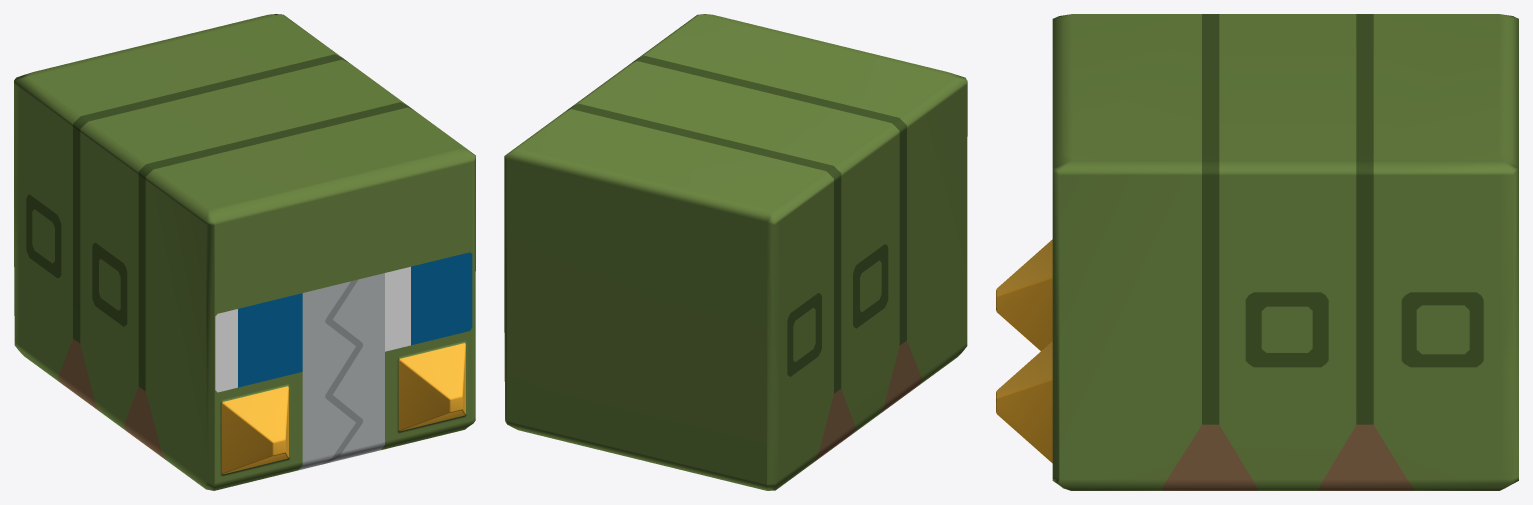
The picture shows the model from 3 angles, left to right: view 1: azimuth 30°, elevation 25°; view 2: azimuth 150°, elevation 25°; view 3: azimuth 270°, elevation 25°; orthographic projection. The views are drawn at different scales.
Visible parts, largest first — view 1: 0737_charjabug; view 2: 0737_charjabug; view 3: 0737_charjabug.
Boxes of the visible parts, box(x1,y1,x2,y2) form: 0737_charjabug: box(14, 14, 475, 490); 0737_charjabug: box(504, 14, 967, 490); 0737_charjabug: box(996, 14, 1518, 490).
Size of the model in its own units: 3.46 by 3.42 by 4.93.
Materials: 1 (1 with a texture image).
